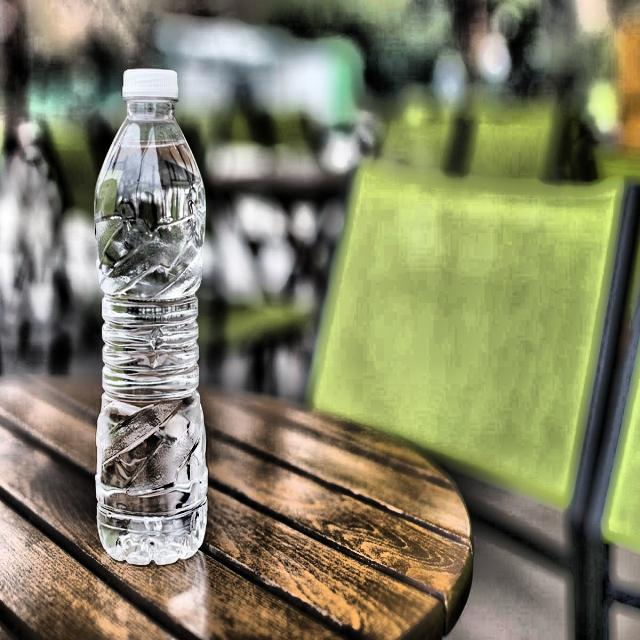Bottles: (57, 49, 238, 615)
